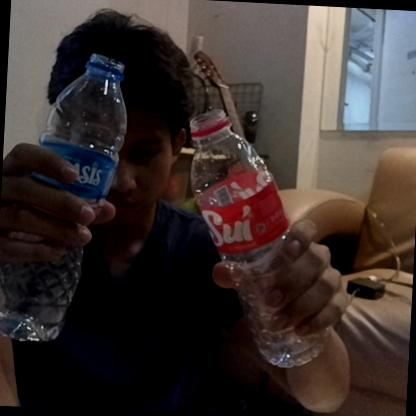plastic_bottles: (173, 102, 341, 362), (0, 47, 132, 344)
